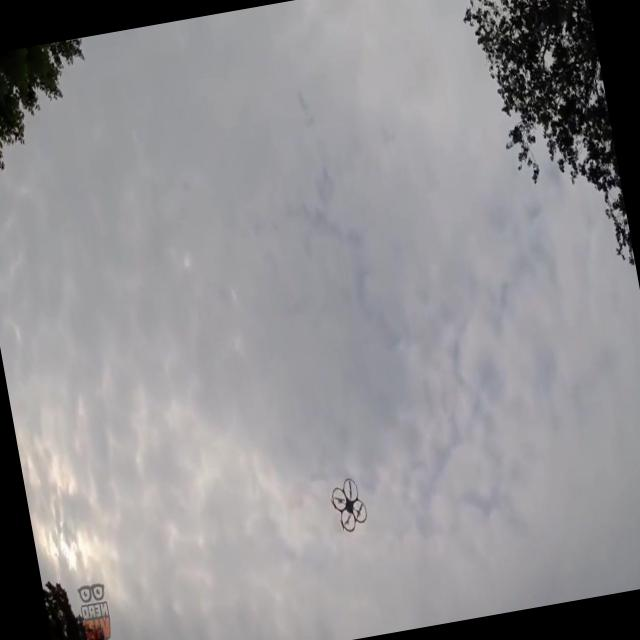drone: (326, 472, 370, 538)
